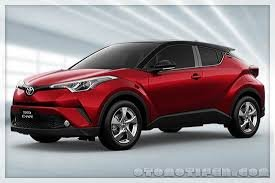mobil: (13, 40, 267, 150)
